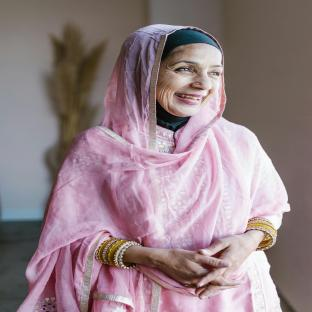Human: (18, 24, 289, 312)
